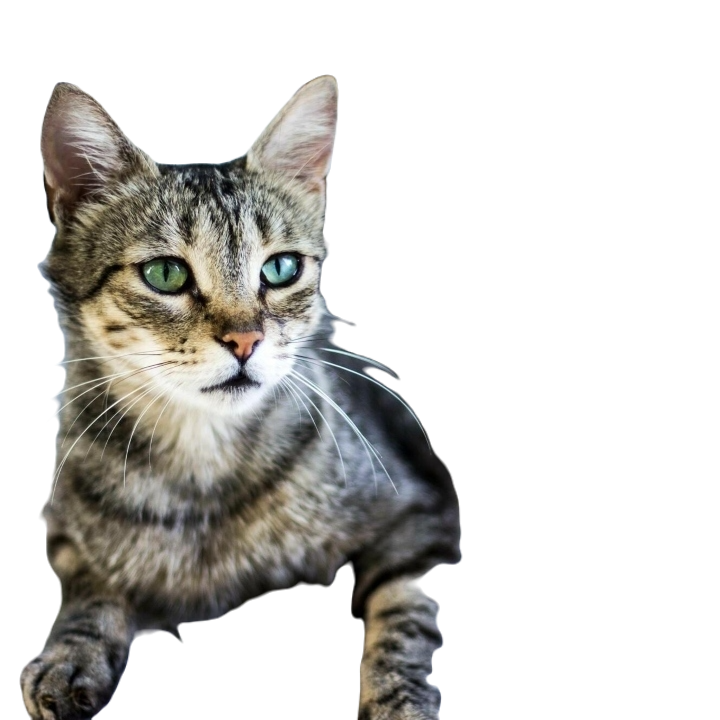Cat: (15, 74, 471, 719)
